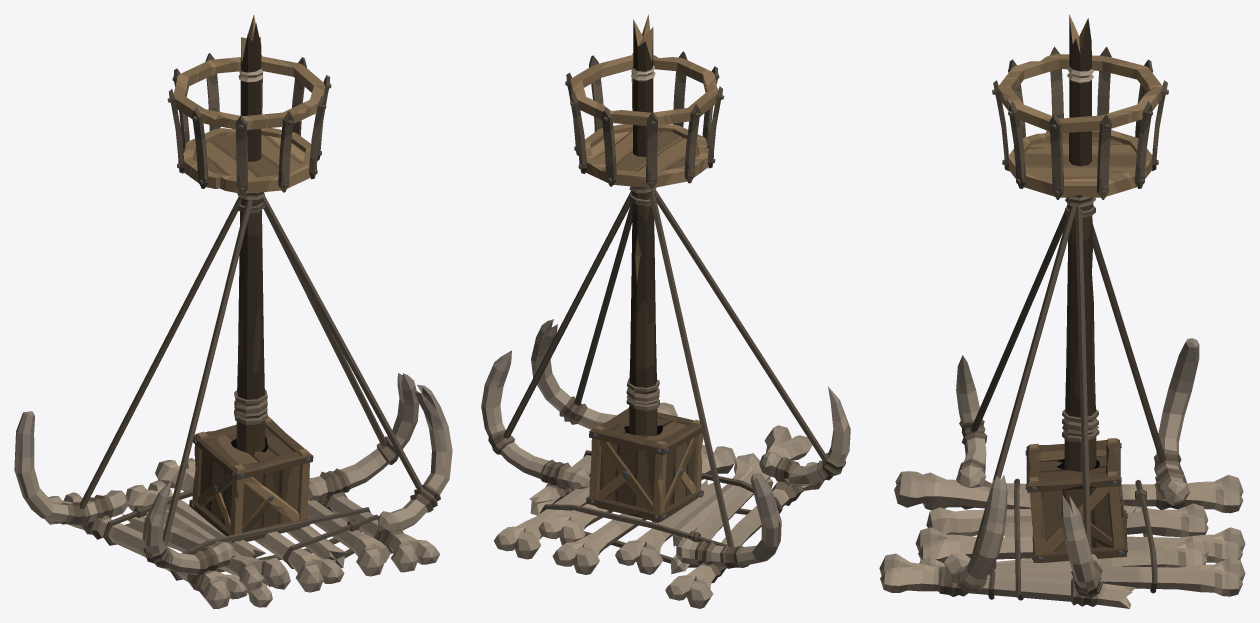
File: SM_Prop_Raft_01.fbx
3 renders of one model, left to right at view 1: azimuth 30°, elevation 25°; view 2: azimuth 150°, elevation 25°; view 3: azimuth 270°, elevation 25°, orthographic. The views are drawn at different scales.
Parts seen in each view (by area): view 1: SM_Prop_Raft_01; view 2: SM_Prop_Raft_01; view 3: SM_Prop_Raft_01.
Part boxes in pixels (x1,y1,x2,y2): SM_Prop_Raft_01: [14, 15, 452, 608]; SM_Prop_Raft_01: [481, 14, 850, 608]; SM_Prop_Raft_01: [879, 14, 1245, 608].
Size of the model in its own units: 509 by 724 by 431.
